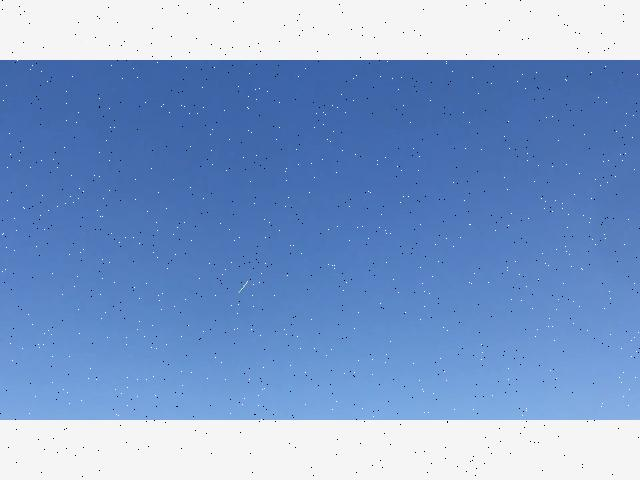Anti-Drone: (230, 274, 258, 302)
